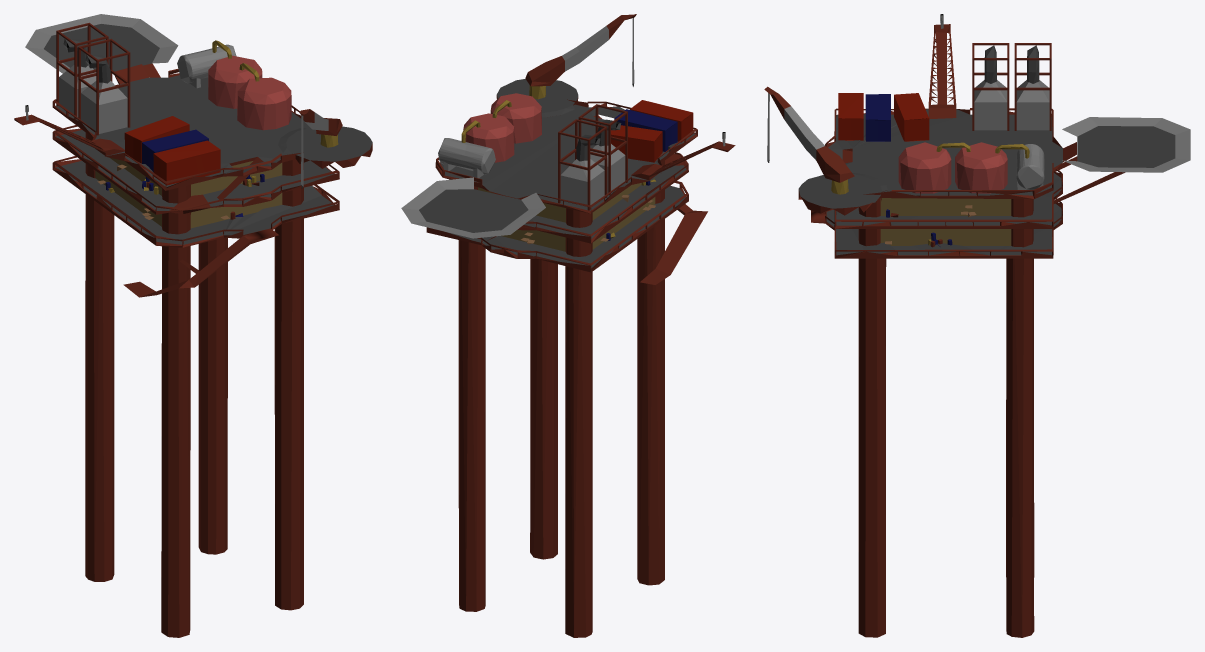
The model's file is oilrigLOD1.fbx.
The picture shows the model from 3 angles, left to right: view 1: azimuth 30°, elevation 25°; view 2: azimuth 150°, elevation 25°; view 3: azimuth 270°, elevation 25°; orthographic projection. The views are drawn at different scales.
Parts seen in each view (by area): view 1: Cylinder.006; view 2: Cylinder.006; view 3: Cylinder.006.
Boxes of the visible parts, bbox=[...] form: Cylinder.006: bbox=[14, 14, 372, 637]; Cylinder.006: bbox=[401, 14, 735, 637]; Cylinder.006: bbox=[764, 14, 1190, 637].
Size of the model in its own units: 7025 by 12312 by 9074.
